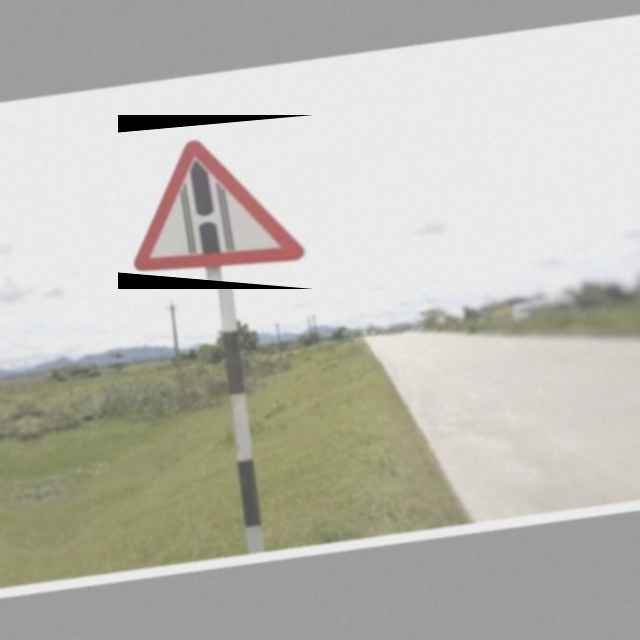Gap_in_Median: (118, 115, 314, 289)
